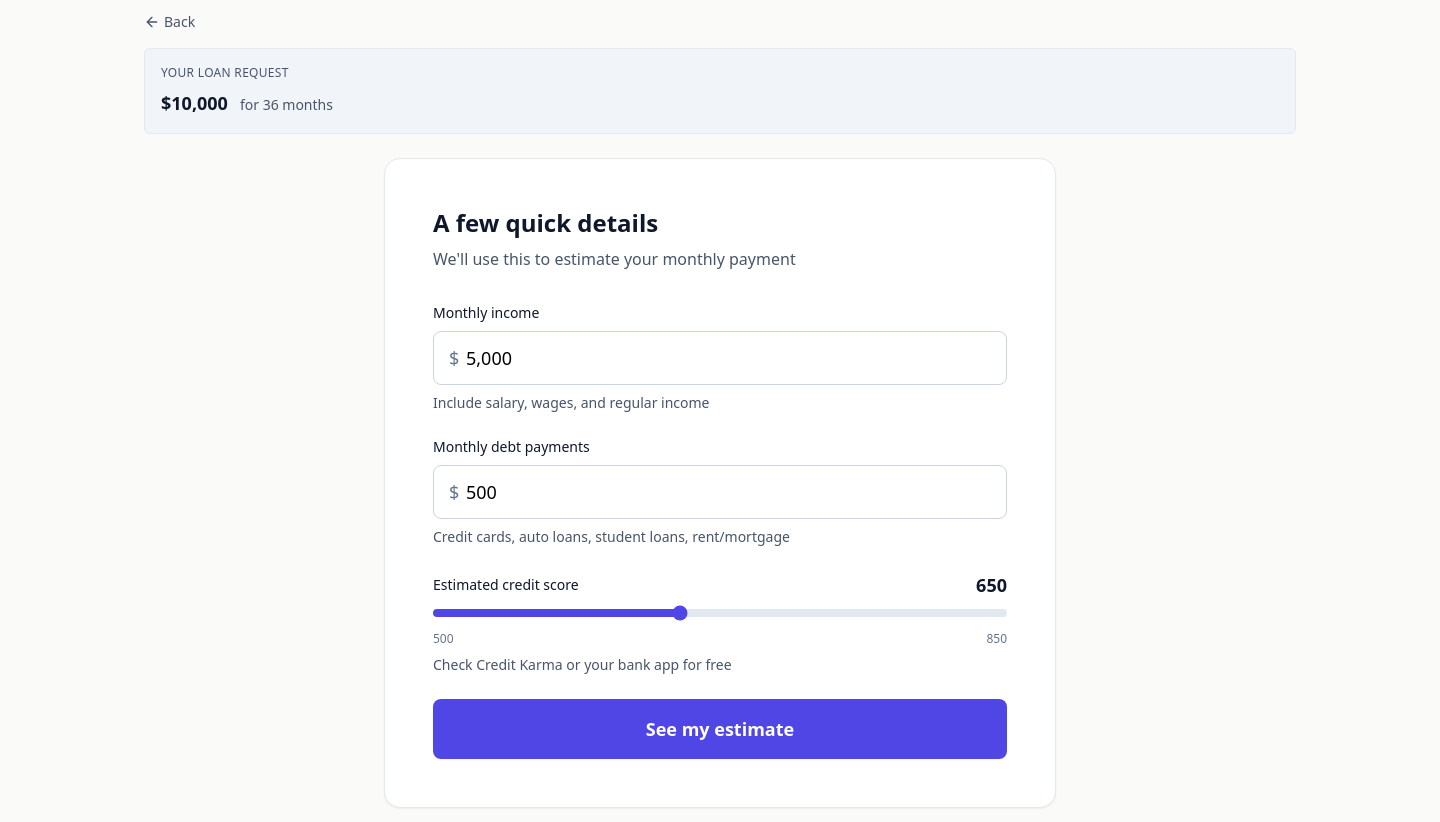
Test: FinancialDetailsStep - Validation (Task 4.3) › Debt validation › shows error when debt exceeds maximum ($15,000)
Replace the text in the field labelled "Monthly debt payments" with "20000" at x=720, y=492, box [433,465,1007,519]
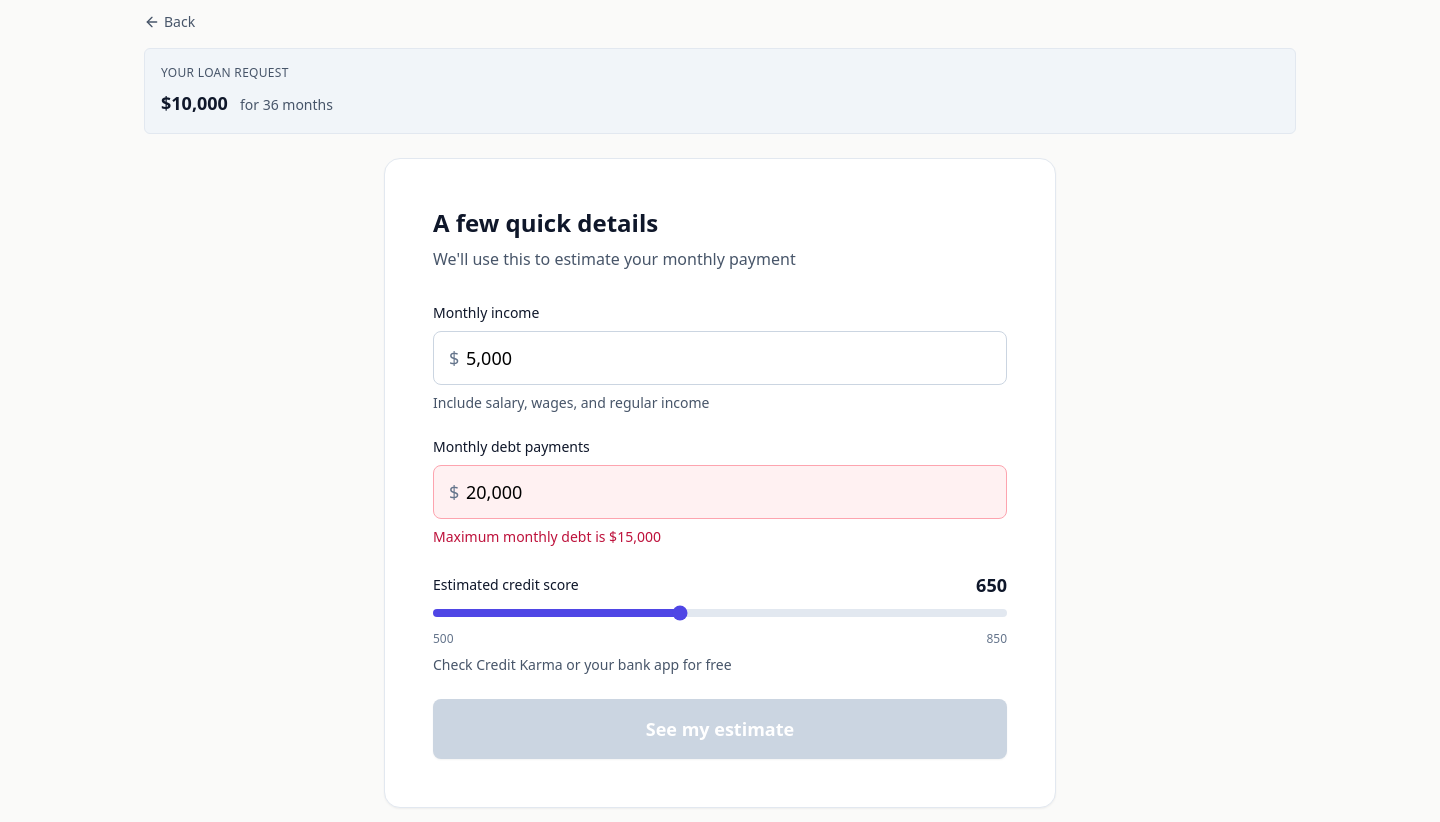
Result: the text "Maximum monthly debt is $15,000" is shown at [433,527,661,546]
